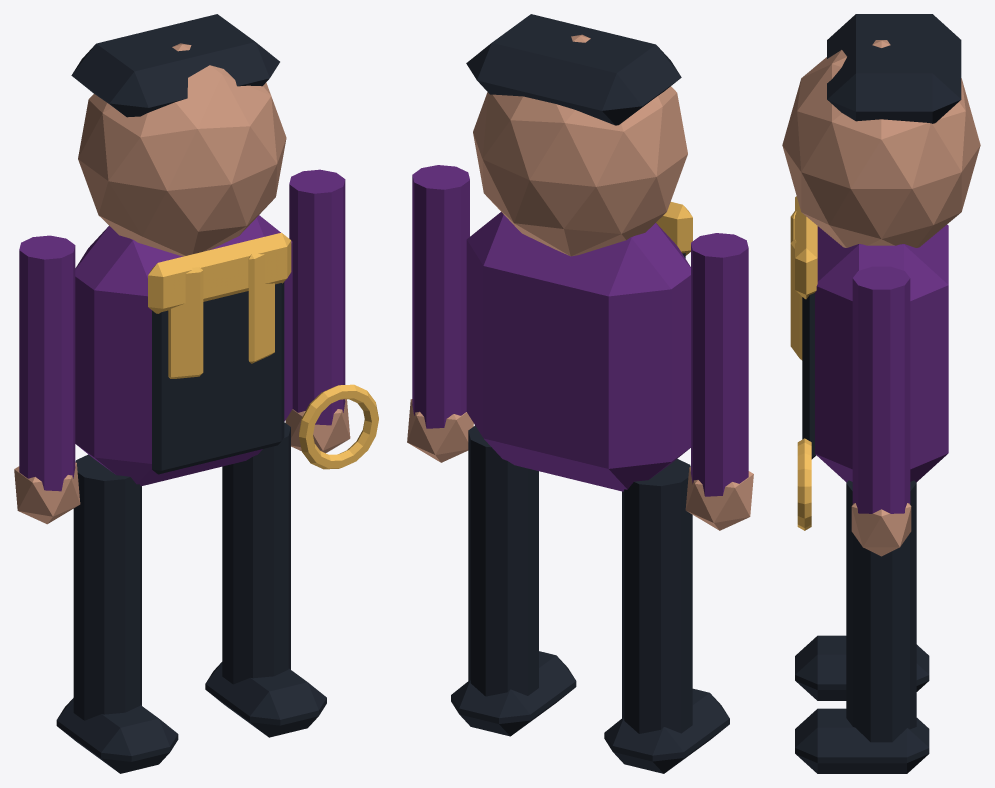
File: grand_disaster_manager.glb
3 views of the same model, side by side, from view 1: azimuth 30°, elevation 25°; view 2: azimuth 150°, elevation 25°; view 3: azimuth 270°, elevation 25° (orthographic). The views are drawn at different scales.
Parts seen in each view (by area): view 1: GRAND_DISASTER_MANAGER_VISUAL; view 2: GRAND_DISASTER_MANAGER_VISUAL; view 3: GRAND_DISASTER_MANAGER_VISUAL.
Boxes of the visible parts, left/top/right/bottom form: GRAND_DISASTER_MANAGER_VISUAL: left=14, top=14, right=378, bottom=773; GRAND_DISASTER_MANAGER_VISUAL: left=407, top=14, right=753, bottom=773; GRAND_DISASTER_MANAGER_VISUAL: left=782, top=14, right=980, bottom=773.
Bounding box in the file's own units: 1.19 × 2.37 × 0.62.
